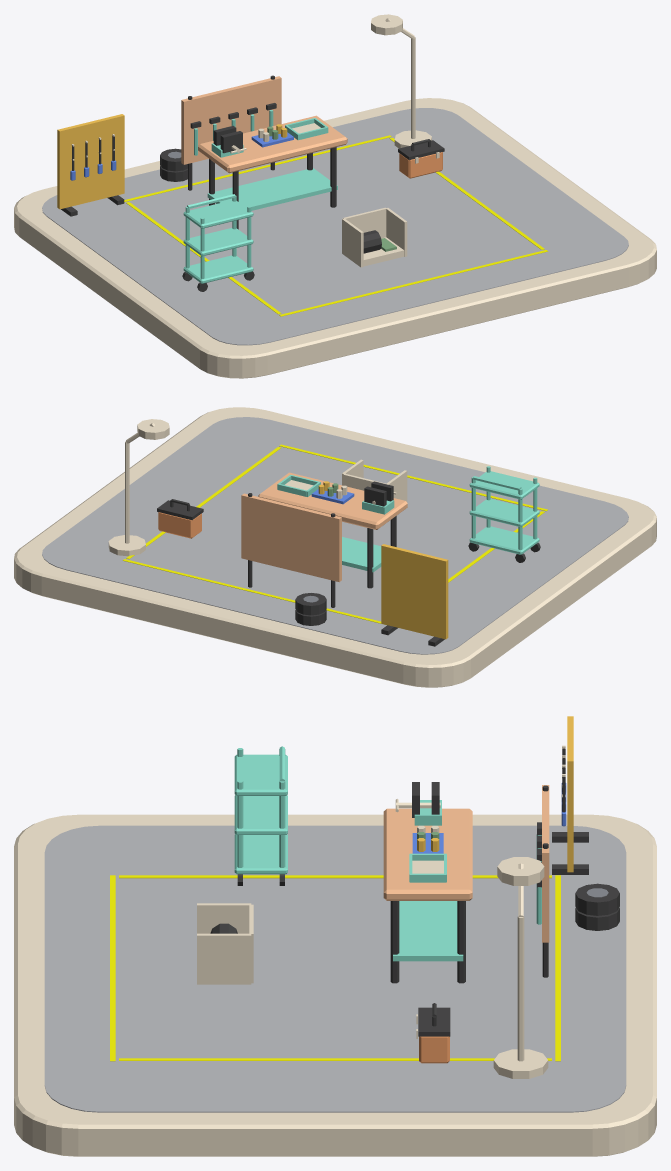
File: room.fbx
3 views of the same model, one above another, from view 1: azimuth 30°, elevation 25°; view 2: azimuth 150°, elevation 25°; view 3: azimuth 270°, elevation 25° (orthographic). The views are drawn at different scales.
Visible parts, largest first — view 1: COM-02 Floor Surface, COM-01 Rounded Base Direct, Panel, Peg board, Worktop, Lower shelf, Tray.002, Tray, Tray.001, Side, Box, Work zone end (+4 smaller); view 2: COM-02 Floor Surface, COM-01 Rounded Base Direct, Peg board, Panel, Worktop, Tray, Tray.001, Tray.002, Lower shelf, Box, Work zone end, Work zone end.001 (+7 smaller); view 3: COM-02 Floor Surface, COM-01 Rounded Base Direct, Worktop, Lower shelf, Side.001, Tray.002, Tray, Tray.001, Side, Base.002, Peg board, Lamp head (+12 smaller).
Boxes of the visible parts, x1,y1,x2,y2 form: COM-02 Floor Surface: (42,108,628,345); COM-01 Rounded Base Direct: (14,98,656,378); Panel: (57,114,124,209); Peg board: (181,76,281,164); Worktop: (198,115,347,173); Lower shelf: (207,168,337,210); Tray.002: (183,200,253,228); Tray: (183,255,253,283); Tray.001: (183,228,253,256); Side: (342,218,363,267); Box: (399,152,442,178); Work zone end: (279,250,548,316); COM-02 Floor Surface: (42,417,628,654); COM-01 Rounded Base Direct: (14,407,656,687); Peg board: (241,493,341,582); Panel: (381,544,448,639); Worktop: (258,472,407,529); Tray: (469,526,539,554); Tray.001: (469,499,539,527); Tray.002: (469,471,539,499); Lower shelf: (342,537,381,572); Box: (158,512,201,538); Work zone end: (279,444,547,511); Work zone end.001: (123,559,385,624); COM-02 Floor Surface: (44,825,626,1112); COM-01 Rounded Base Direct: (14,814,656,1156); Worktop: (383,808,472,900); Lower shelf: (393,901,463,961); Side.001: (197,933,251,984); Tray.002: (234,754,287,795); Tray: (234,834,287,874); Tray.001: (234,795,287,834); Side: (197,903,251,933); Base.002: (493,1049,548,1078); Peg board: (542,785,549,942); Lamp head: (497,857,544,885).
Bounding box in the file's own units: 600 × 196 × 520.
